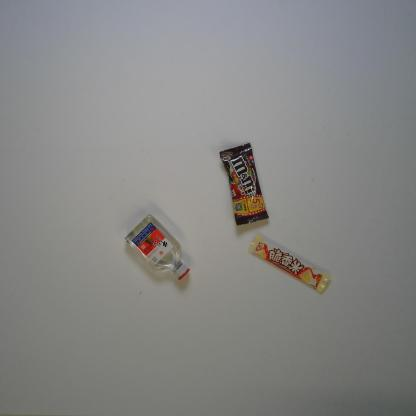Alcohol: (122, 214, 192, 281)
Chocolate: (247, 232, 333, 297), (216, 141, 272, 227)
